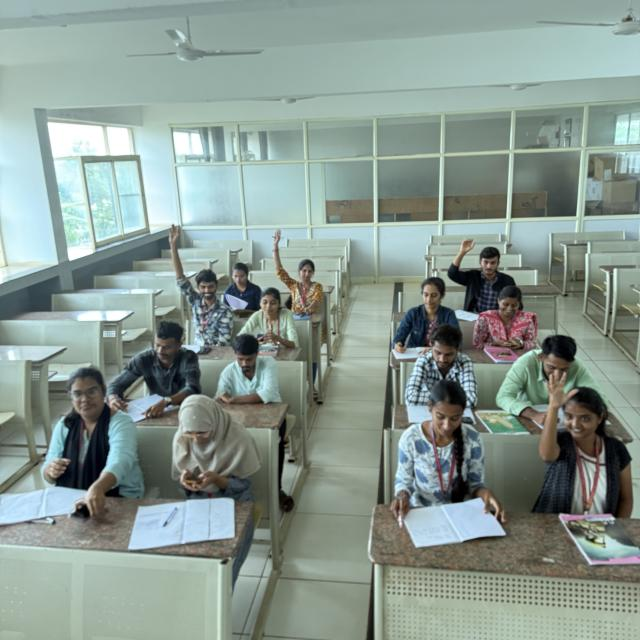Hand Rising: (531, 364, 634, 509), (158, 219, 234, 341), (266, 223, 330, 313), (444, 234, 514, 314)
Reading: (400, 378, 511, 538)
Using Phone: (40, 363, 144, 523), (164, 393, 263, 505), (470, 284, 541, 354), (237, 280, 296, 349)
Writing: (496, 327, 601, 422), (105, 319, 200, 421), (389, 277, 462, 361)
